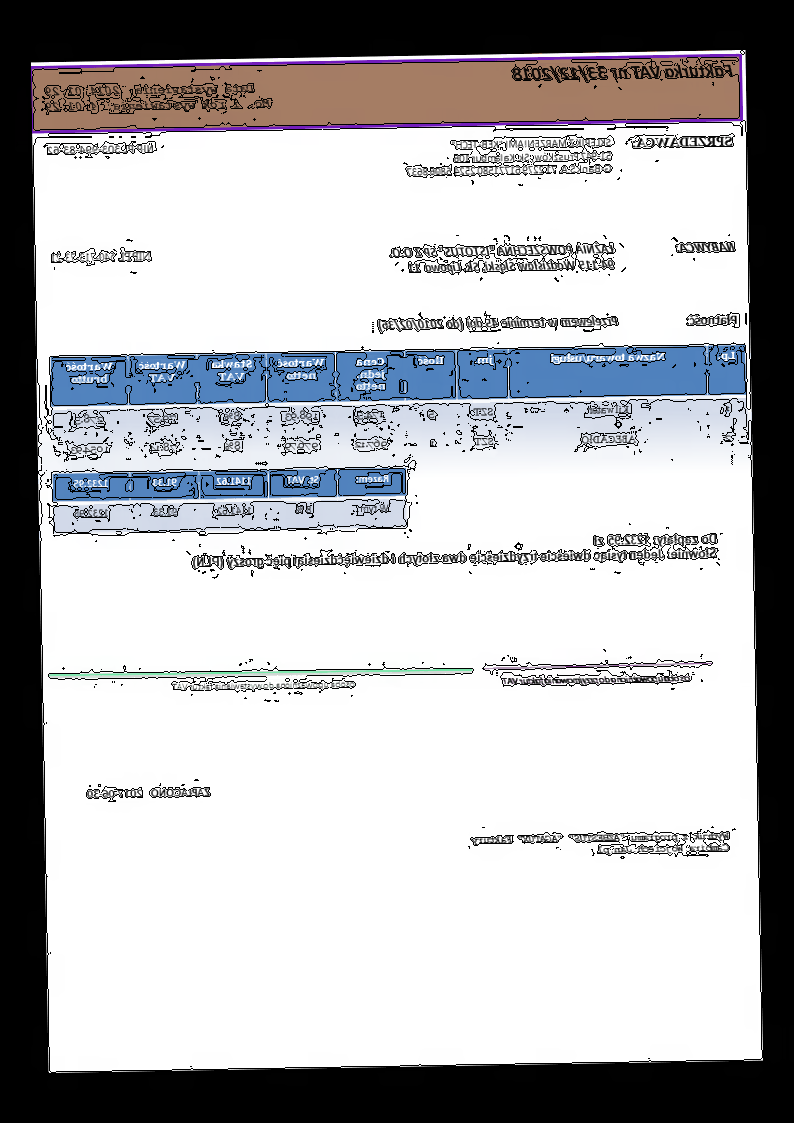Table: (50, 342, 750, 468), (52, 465, 410, 536)
TextBox: (190, 530, 720, 573), (404, 133, 614, 181), (467, 827, 732, 860), (43, 79, 275, 116), (386, 240, 618, 277), (510, 57, 737, 86), (377, 313, 621, 333), (502, 670, 694, 689), (169, 677, 359, 694), (84, 784, 213, 802), (45, 139, 157, 158), (632, 132, 736, 152), (48, 248, 155, 266), (675, 239, 738, 256), (684, 311, 741, 328)
